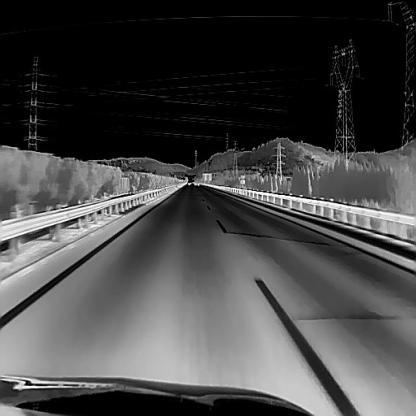car: (194, 175, 200, 185)
